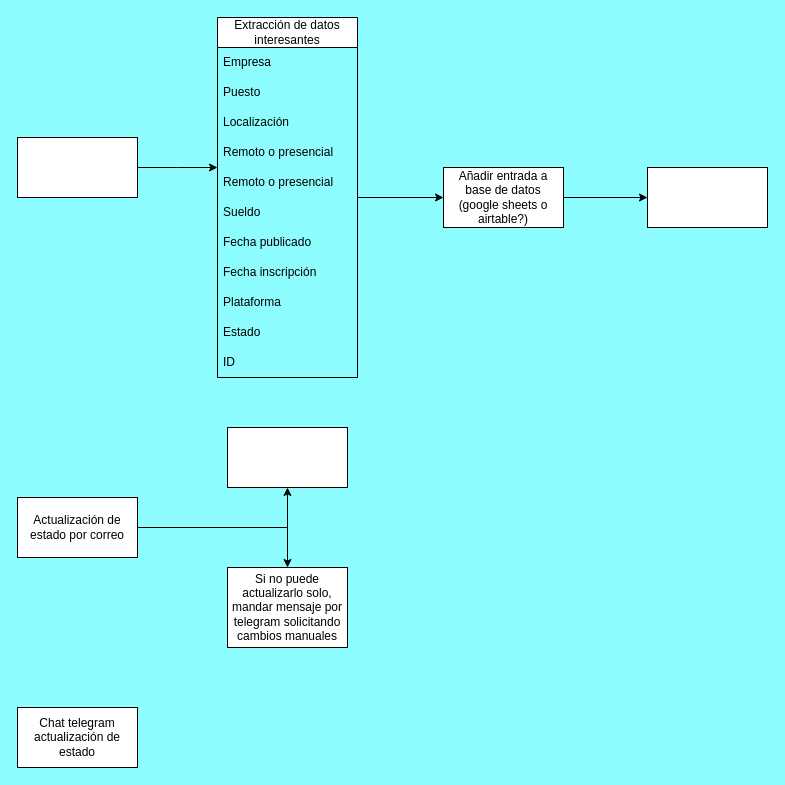
The diagram is 785 pixels wide and 785 high, and some of its shapes have lost their labels. Each missing label, with the centre of its shape:
Extraer ID y actualizar estado, por correo: the point at 287,457
Notificación a telegram bot: the point at 707,197
Nueva notificación de inscripción: the point at 77,167
